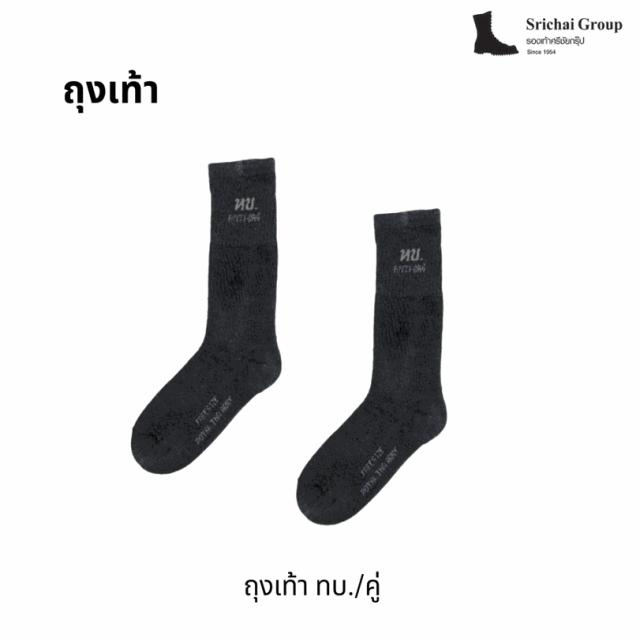sock: (130, 156, 282, 474), (295, 208, 447, 524)
